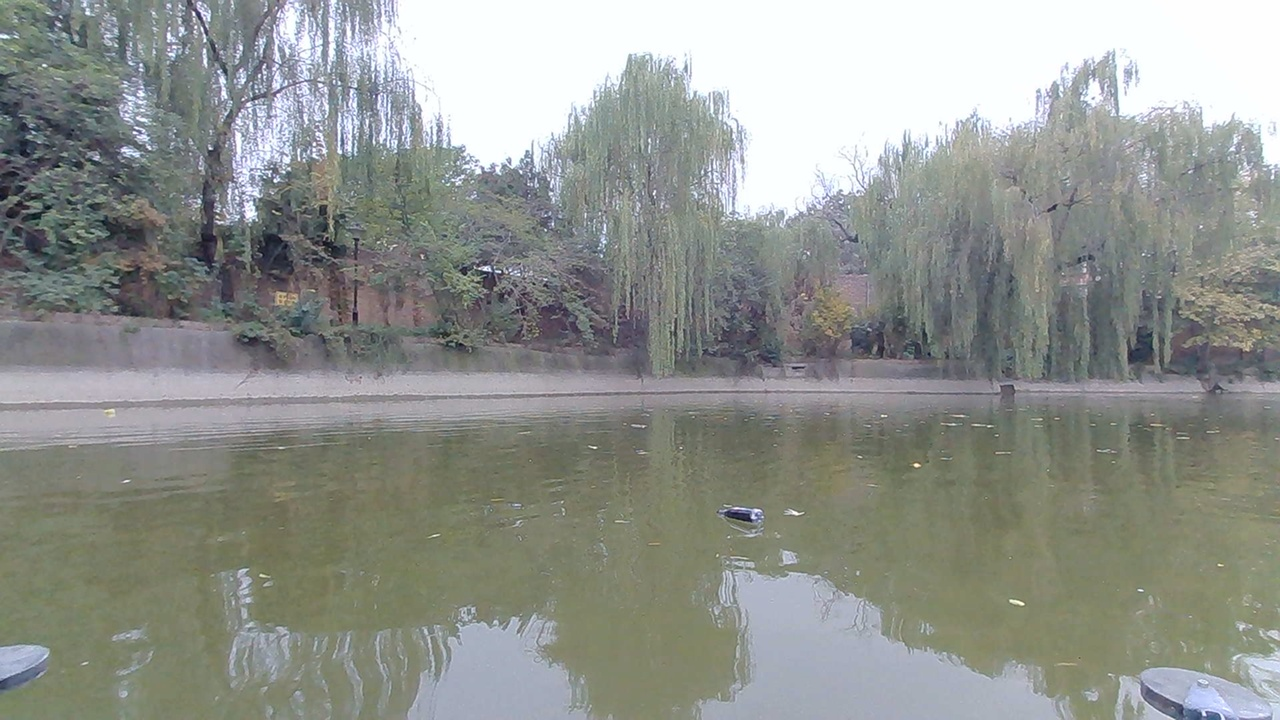bottle: (719, 500, 773, 534)
